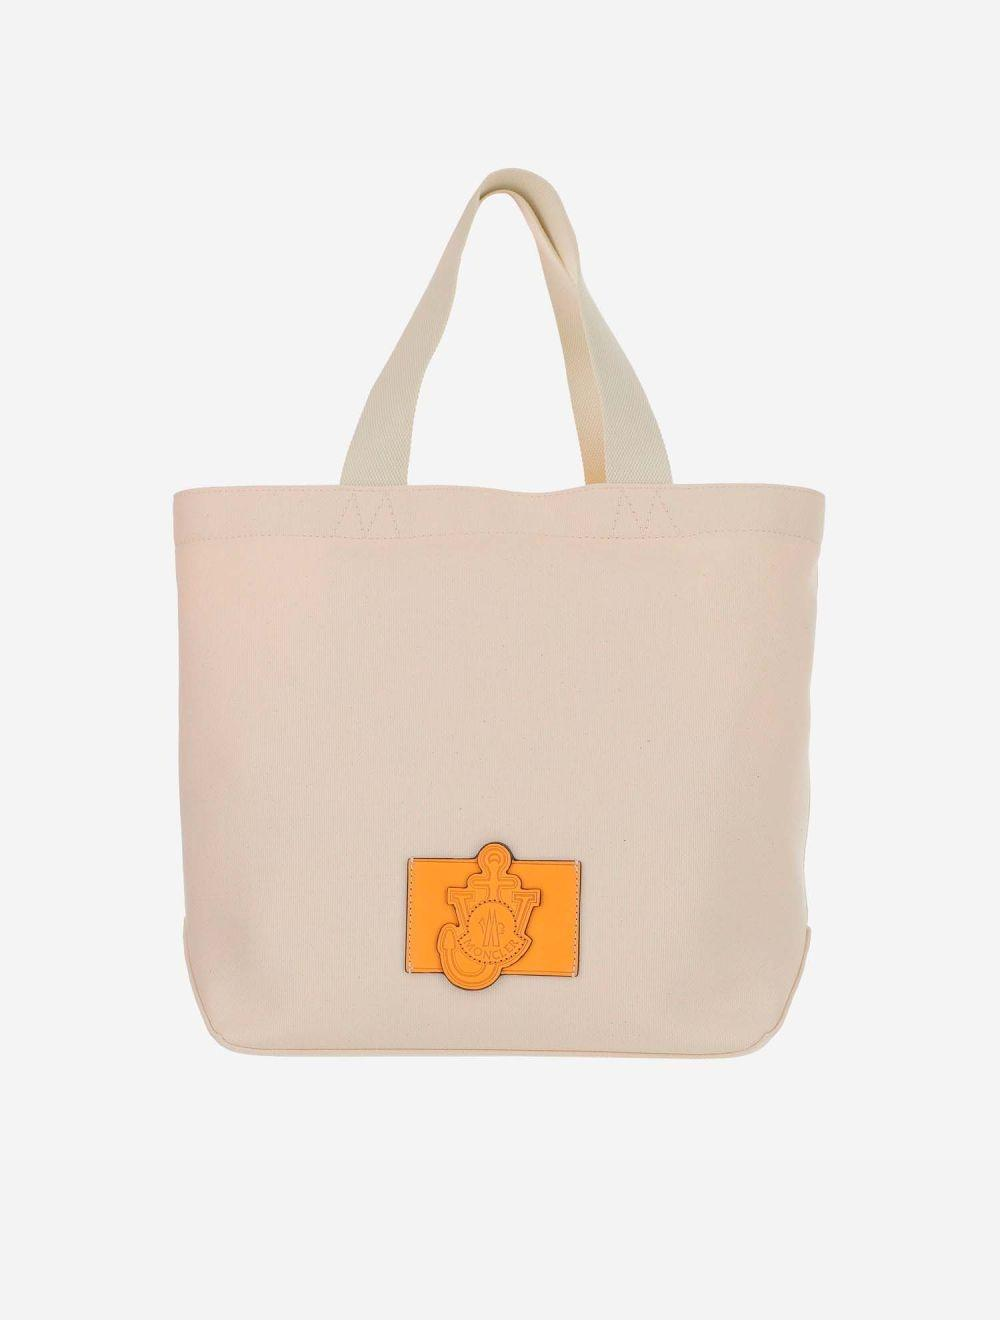MONCLER: (457, 898, 527, 965)
